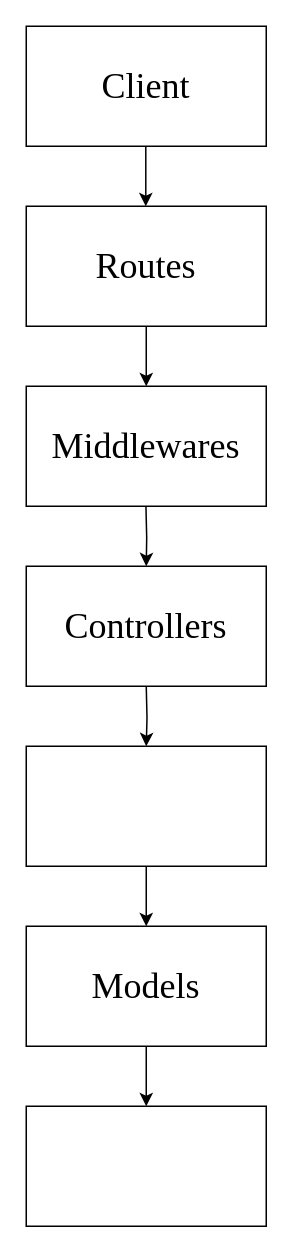
Image size: 293x1253. Some labels were removed from this diagram. The centre of each missing label's shape, as x and y in pixels:
Database: the point at 145,1165
Services: the point at 145,805
